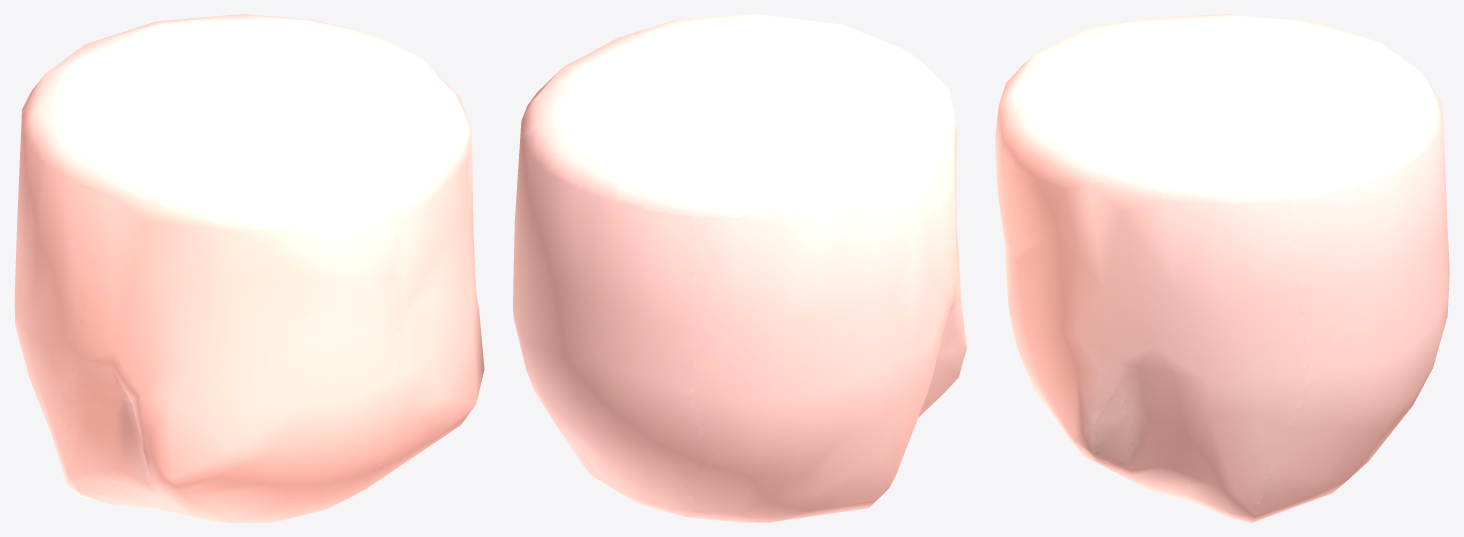
The picture shows the model from 3 angles, left to right: view 1: azimuth 30°, elevation 25°; view 2: azimuth 150°, elevation 25°; view 3: azimuth 270°, elevation 25°; orthographic projection. The views are drawn at different scales.
Visible parts, largest first — view 1: Hair.1.Congtou .002; view 2: Hair.1.Congtou .002; view 3: Hair.1.Congtou .002.
Boxes of the visible parts, box(x1,y1,x2,y2) form: Hair.1.Congtou .002: box(14, 14, 484, 522); Hair.1.Congtou .002: box(513, 14, 966, 522); Hair.1.Congtou .002: box(995, 14, 1449, 522).
Bounding box in the file's own units: 0.3213 × 0.325 × 0.3281.
